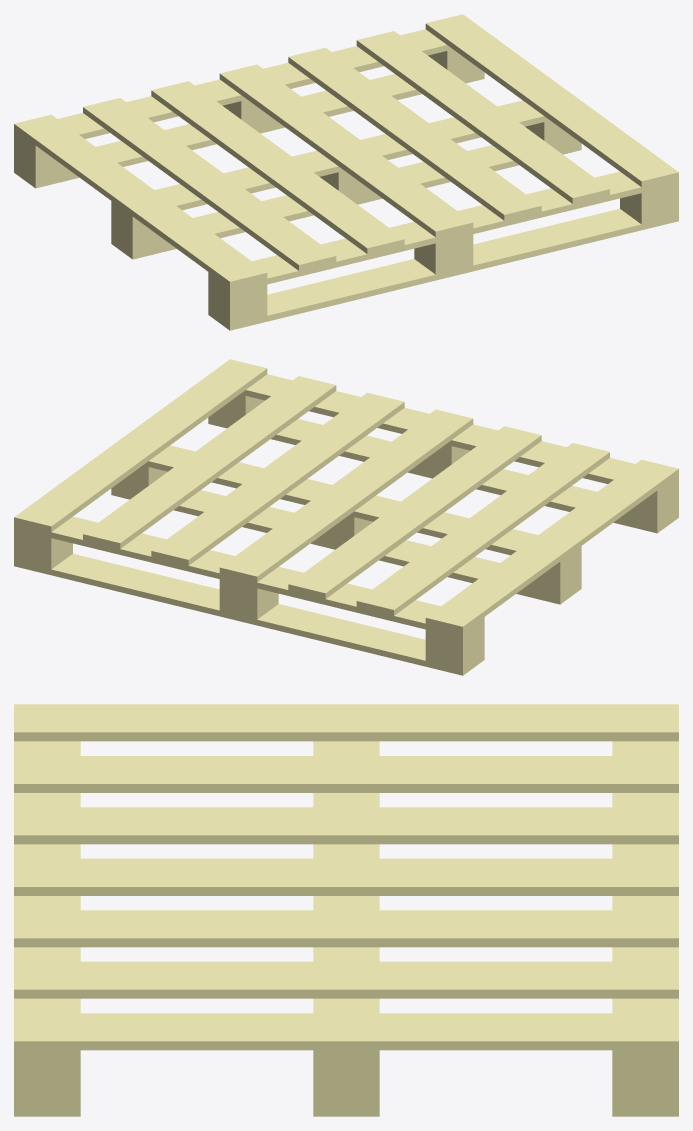
Rendered from tray.fbx.
The picture shows the model from 3 angles, top to bottom: view 1: azimuth 30°, elevation 25°; view 2: azimuth 150°, elevation 25°; view 3: azimuth 270°, elevation 25°; orthographic projection. The views are drawn at different scales.
Visible parts, largest first — view 1: _4_1__DC_Shell_2_4, _3_3__DC_Shell_3_2, _3_1__DC_Shell_2_3, _3_5__DC_Shell_3_2, _3_2__DC_Shell_2_3, _3_6__DC_Shell_2_3, _3_7__DC_Shell_1_3, _3_4__DC_Shell_3_2, _2_1__DC_Shell_4_2, _2_2__DC_Shell_5_2, _2_3__DC_Shell_2_3, _4_3__DC_Shell_3_2 (+10 smaller); view 2: _4_3__DC_Shell_3_2, _3_3__DC_Shell_3_2, _3_1__DC_Shell_2_3, _3_5__DC_Shell_3_2, _3_2__DC_Shell_2_3, _3_6__DC_Shell_2_3, _3_7__DC_Shell_1_3, _3_4__DC_Shell_3_2, _2_3__DC_Shell_2_3, _2_2__DC_Shell_5_2, _2_1__DC_Shell_4_2, _4_1__DC_Shell_2_4 (+10 smaller); view 3: _3_1__DC_Shell_2_3, _3_2__DC_Shell_2_3, _3_3__DC_Shell_3_2, _3_4__DC_Shell_3_2, _3_5__DC_Shell_3_2, _3_7__DC_Shell_1_3, _3_6__DC_Shell_2_3, _2_1__DC_Shell_4_2, _2_2__DC_Shell_5_2, _2_3__DC_Shell_2_3, _1_5__DC_Shell_3_2, _1_4__DC_Shell_3_2 (+4 smaller).
Part boxes in pixels (x1,y1,x2,y2): _4_1__DC_Shell_2_4: (208,208,678,330); _3_3__DC_Shell_3_2: (219,64,473,237); _3_1__DC_Shell_2_3: (425,14,678,187); _3_5__DC_Shell_3_2: (288,47,541,220); _3_2__DC_Shell_2_3: (14,114,267,287); _3_6__DC_Shell_2_3: (83,98,336,270); _3_7__DC_Shell_1_3: (356,31,609,203); _3_4__DC_Shell_3_2: (151,81,404,253); _2_1__DC_Shell_4_2: (208,171,678,293); _2_2__DC_Shell_5_2: (111,100,549,222); _2_3__DC_Shell_2_3: (14,29,452,151); _4_3__DC_Shell_3_2: (14,73,484,188); _4_3__DC_Shell_3_2: (14,553,484,675); _3_3__DC_Shell_3_2: (219,409,473,582); _3_1__DC_Shell_2_3: (14,359,267,532); _3_5__DC_Shell_3_2: (151,392,404,565); _3_2__DC_Shell_2_3: (425,459,678,632); _3_6__DC_Shell_2_3: (356,443,609,615); _3_7__DC_Shell_1_3: (83,376,336,548); _3_4__DC_Shell_3_2: (288,426,541,598); _2_3__DC_Shell_2_3: (14,516,484,638); _2_2__DC_Shell_5_2: (143,445,581,567); _2_1__DC_Shell_4_2: (240,374,678,496); _4_1__DC_Shell_2_4: (208,418,678,533); _3_1__DC_Shell_2_3: (14,1013,678,1050); _3_2__DC_Shell_2_3: (14,704,678,741); _3_3__DC_Shell_3_2: (14,858,678,895); _3_4__DC_Shell_3_2: (14,807,678,844); _3_5__DC_Shell_3_2: (14,910,678,947); _3_7__DC_Shell_1_3: (14,961,678,998); _3_6__DC_Shell_2_3: (14,756,678,792); _2_1__DC_Shell_4_2: (14,741,80,1059); _2_2__DC_Shell_5_2: (313,741,379,1059); _2_3__DC_Shell_2_3: (612,741,678,1059); _1_5__DC_Shell_3_2: (612,1059,678,1107); _1_4__DC_Shell_3_2: (14,1059,80,1107).
Size of the model in its own units: 1200 by 125 by 1000.
